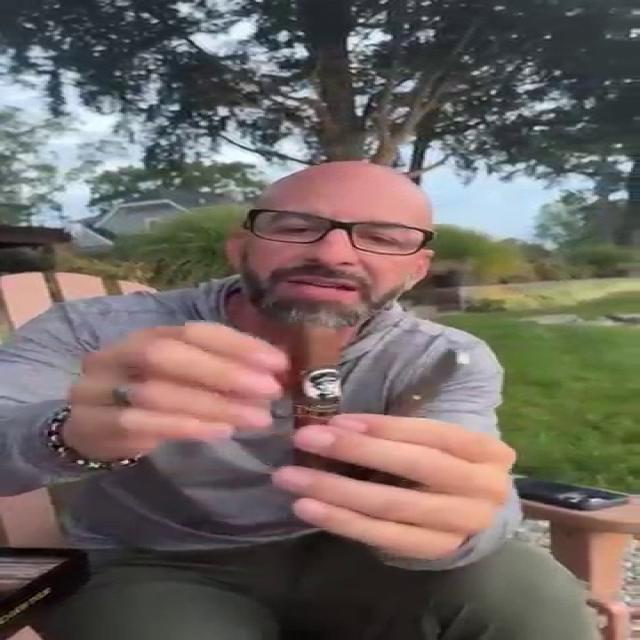Cigarette: (295, 324, 338, 471)
Hand: (269, 404, 525, 571)
Mouth: (276, 273, 371, 298)
